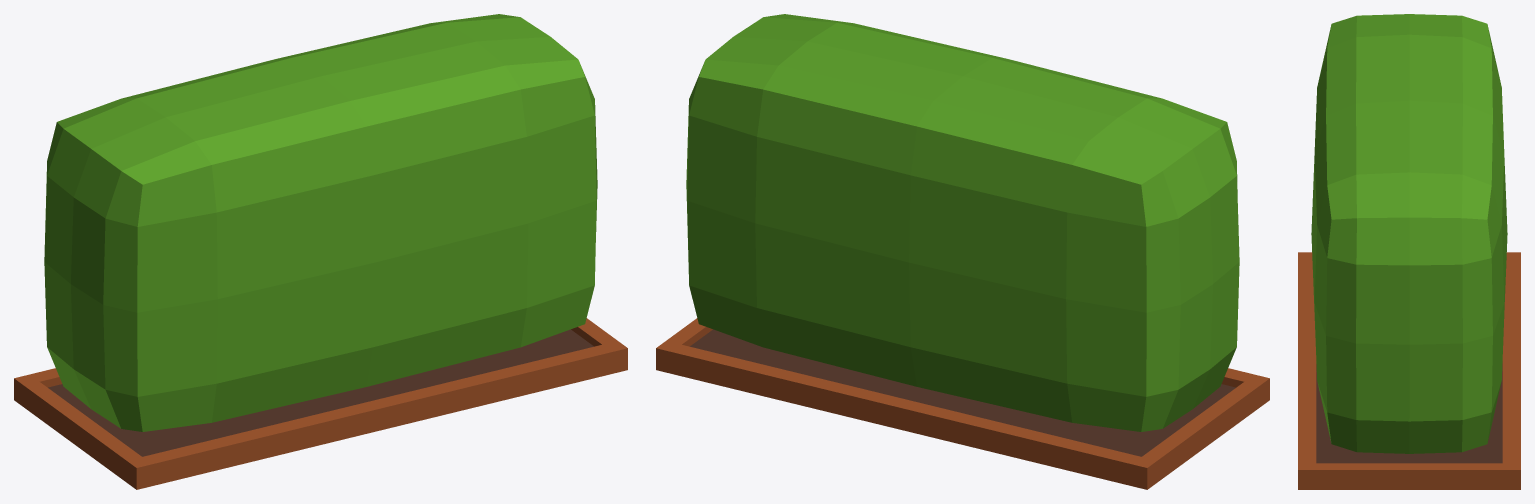
File: Hedge.fbx
The picture shows the model from 3 angles, left to right: view 1: azimuth 30°, elevation 25°; view 2: azimuth 150°, elevation 25°; view 3: azimuth 270°, elevation 25°; orthographic projection. The views are drawn at different scales.
Parts seen in each view (by area): view 1: Hedge; view 2: Hedge; view 3: Hedge.
Part boxes in pixels (x1,y1,x2,y2): Hedge: [14, 14, 627, 489]; Hedge: [656, 14, 1269, 489]; Hedge: [1298, 14, 1520, 489].
Bounding box in the file's own units: 198 × 117 × 84.24.
